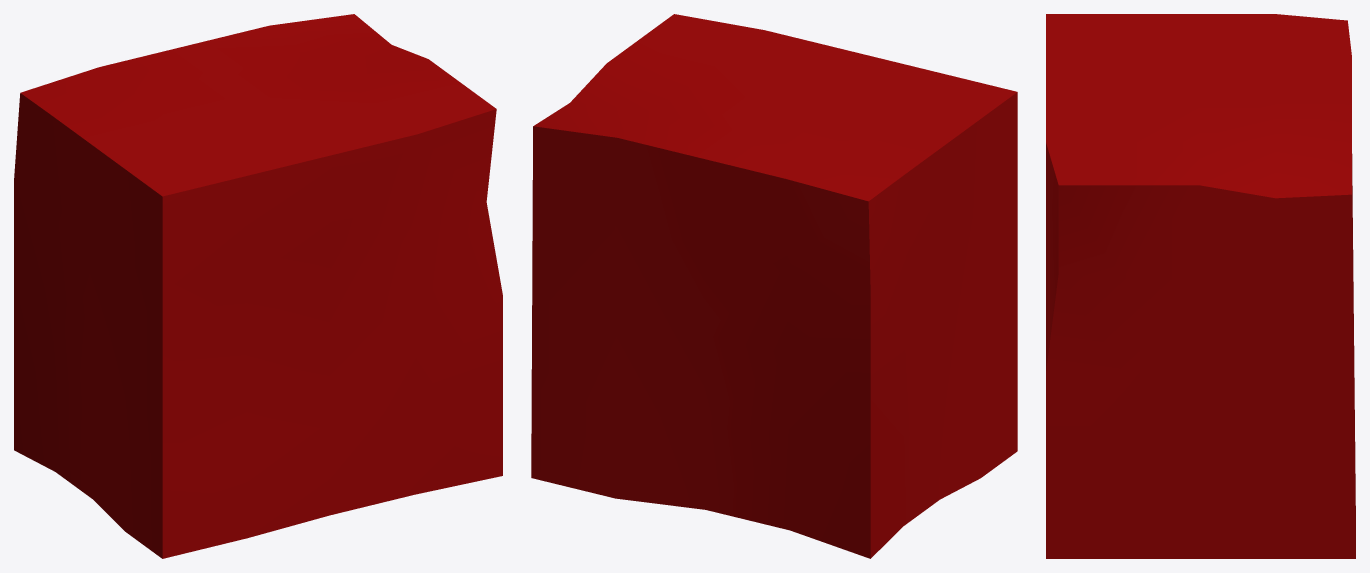
Rendered from Paper_Box_08.FBX.
The picture shows the model from 3 angles, left to right: view 1: azimuth 30°, elevation 25°; view 2: azimuth 150°, elevation 25°; view 3: azimuth 270°, elevation 25°; orthographic projection. The views are drawn at different scales.
Parts seen in each view (by area): view 1: Paper_Box_08; view 2: Paper_Box_08; view 3: Paper_Box_08.
Part boxes in pixels (box(x1,y1,x2,y2)): Paper_Box_08: box(14, 14, 502, 558); Paper_Box_08: box(531, 14, 1017, 558); Paper_Box_08: box(1046, 14, 1355, 558).
Bounding box in the file's own units: 73.17 × 55.96 × 74.46.
